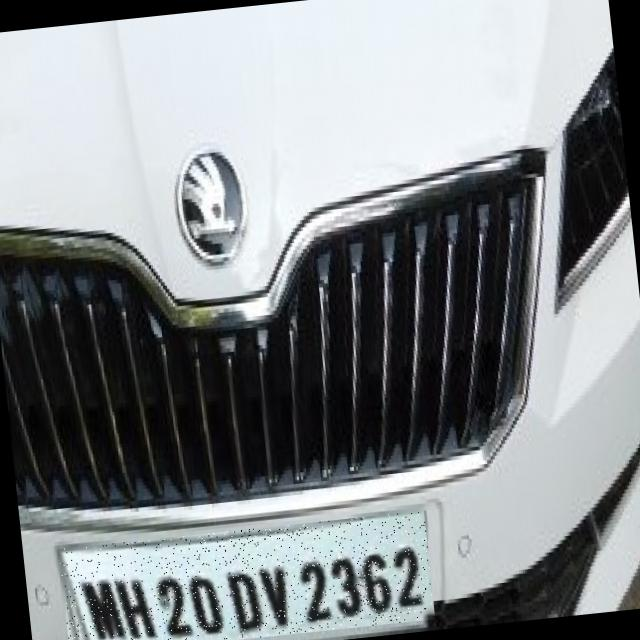Plate: (59, 511, 435, 640)
